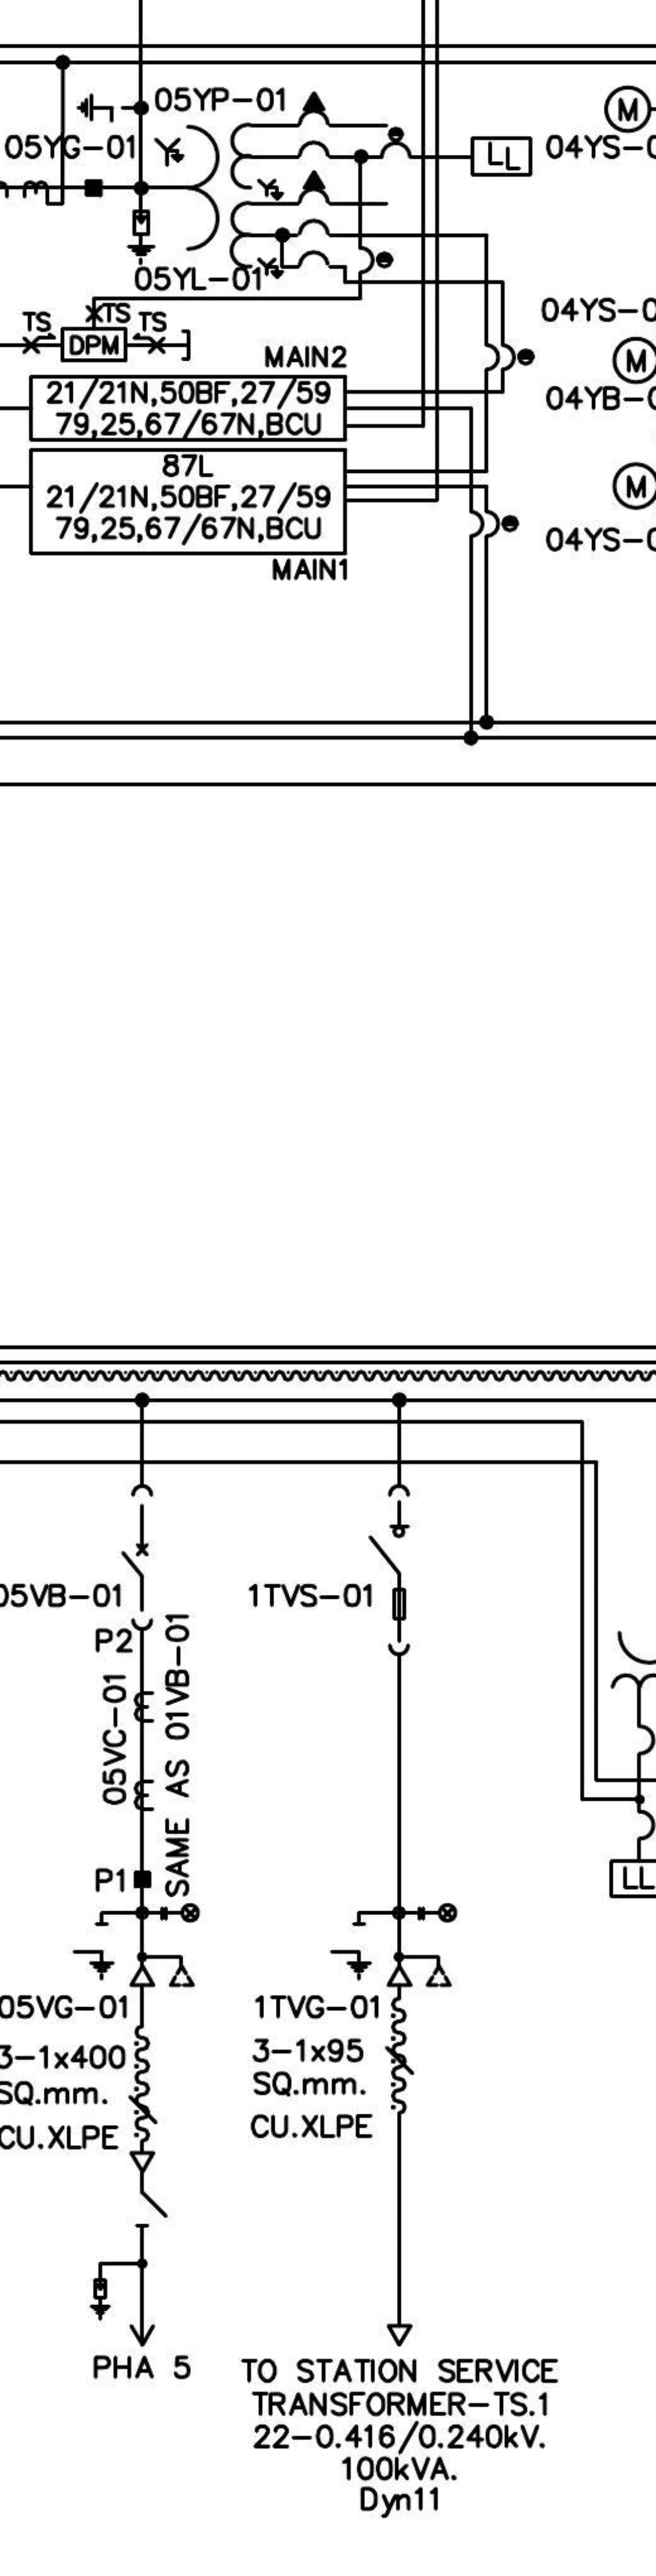115_gs: (74, 92, 127, 125)
115_la: (125, 209, 156, 266)
115_vt_3p: (153, 90, 330, 279)
22_breaker: (120, 1483, 155, 1631)
22_ds: (368, 1483, 411, 1658)
22_ds_la_out: (89, 2192, 168, 2348)
22_gs: (72, 1920, 117, 1983), (329, 1922, 373, 1981)
22_ll: (416, 1902, 459, 1924), (159, 1902, 202, 1924)
DPM: (59, 327, 127, 363)
LL: (469, 135, 533, 177)
terminator_single: (385, 2323, 414, 2348), (130, 2149, 158, 2173)
terminator_w_future: (128, 1953, 196, 1988), (385, 1953, 452, 1988)
